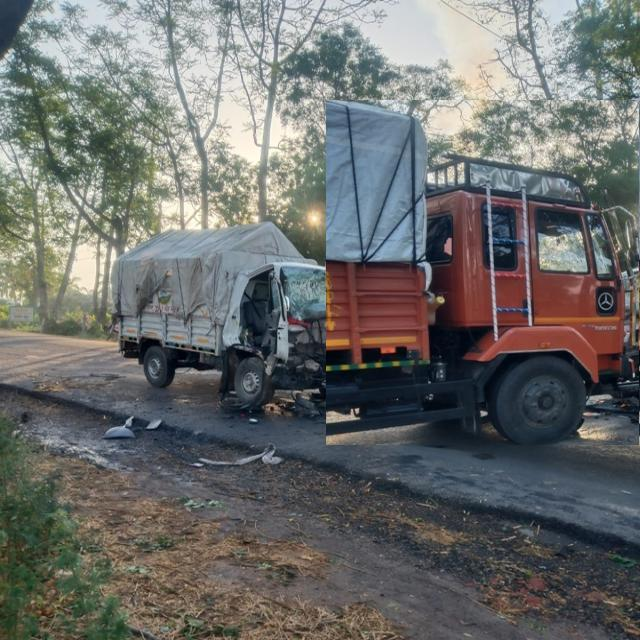accident: (111, 223, 339, 408)
truck: (326, 100, 640, 445)
